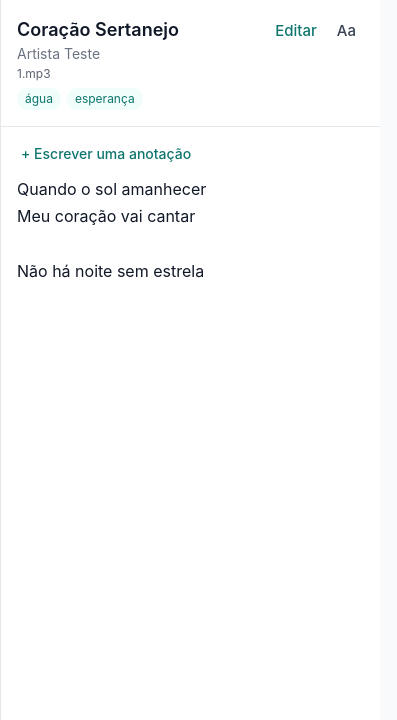
it: LyricsPanel — modo de edição (V4 F10) › o som discorda da etiqueta (V9) › mostra os dois lados e não oferece 'Usar estes dados'
Expected: the text with test id "lyrics-body" is shown, [17,179,206,281]
Click the button "Editar". click: point(296, 31)
box: [267,16,325,46]
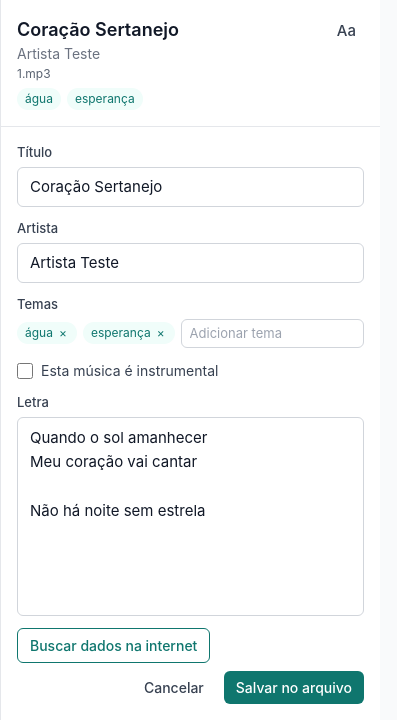
Click the button "Buscar dados na internet". click: point(114, 646)
box: [17,628,210,663]
(page scrolled)
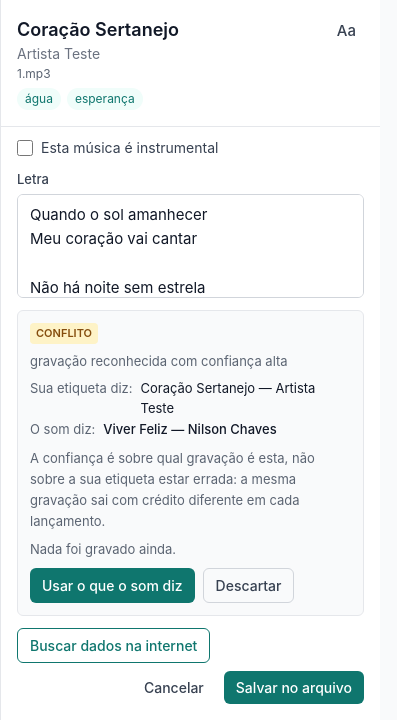
Expected: the text "Sua etiqueta diz:" is shown, [30,380,132,396]
Expected: the text "O som diz:" is shown, [30,420,95,440]
Expected: the text "Viver Feliz — Nilson Chaves" is shown, [103,420,277,440]
